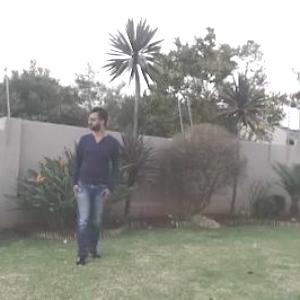follow: (62, 93, 125, 283)
